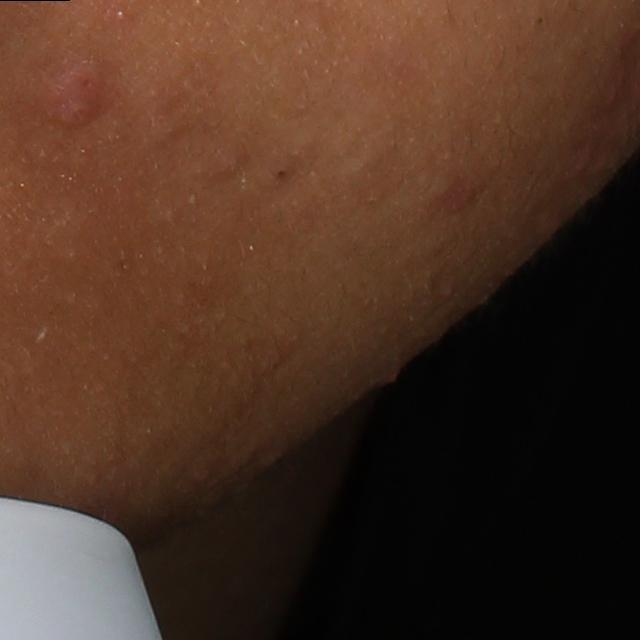papule: (49, 67, 105, 135)
